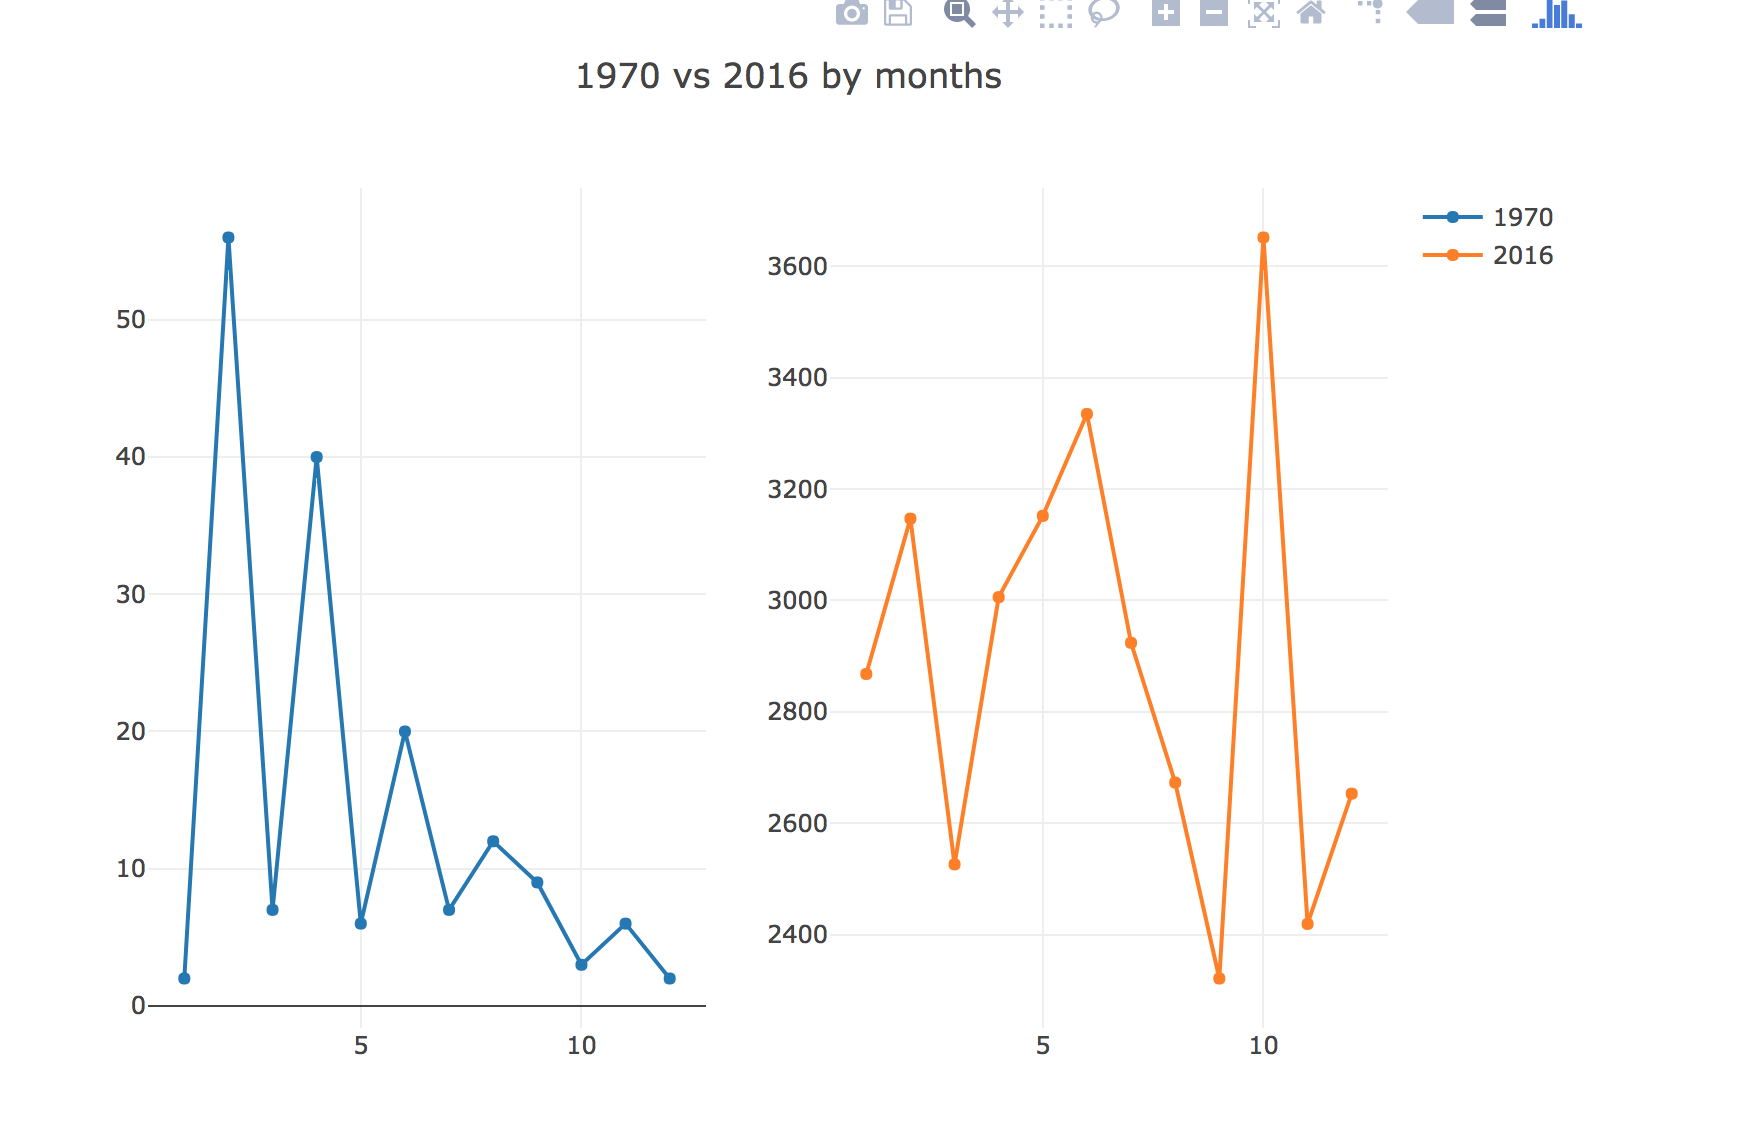

This screenshot's page, from the dashboard's own definition file:
{"tool":"tableau","page":{"name":"Dashboard 1","canvas":[1000,800],"ordinal":0},"visuals":[{"type":"worksheet","title":"Sheet 2","mark":"Circle","box":[0,0,420,800]},{"type":"worksheet","title":"Sheet 1","mark":"Circle","box":[420,0,420,800]},{"type":"legend","title":"Sheet 2","param":"[federated.04id06k0r0qn6o1epfiiu1t74m8r].[none:country_txt:nk]","box":[840,0,160,710]},{"type":"filter","title":"Sheet 1","param":"[federated.04id06k0r0qn6o1epfiiu1t74m8r].[none:iyear:qk]","box":[840,710,160,69]}]}

Visuals, with their boxes on the page's 1000x800 design canvas (x1, y1, x2, y2). These are canvas units, not pixel positions in the 1738x1126 screenshot, which may show the page scaled, cropped or inside an application window:
"Sheet 2" worksheet (Circle marks): region(0, 0, 420, 800)
"Sheet 1" worksheet (Circle marks): region(420, 0, 840, 800)
"Sheet 2" legend: region(840, 0, 1000, 710)
"Sheet 1" filter: region(840, 710, 1000, 779)
